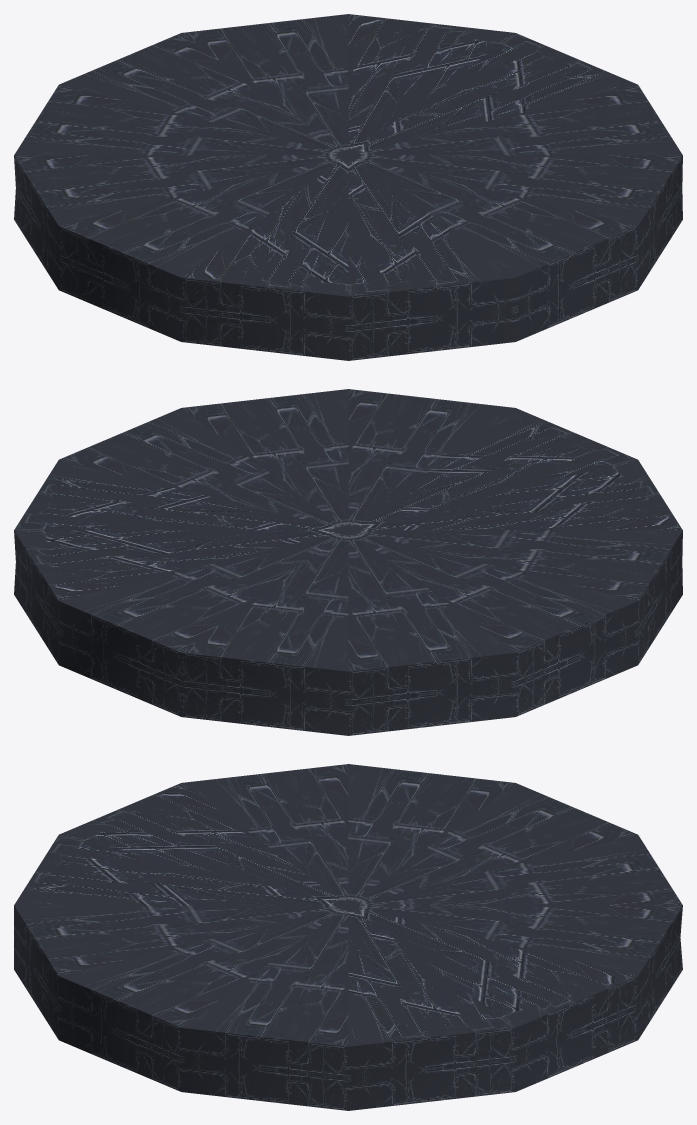
Rendered from pm-column-base.glb.
The picture shows the model from 3 angles, top to bottom: view 1: azimuth 30°, elevation 25°; view 2: azimuth 150°, elevation 25°; view 3: azimuth 270°, elevation 25°; orthographic projection.
Visible parts, largest first — view 1: ColumnBase; view 2: ColumnBase; view 3: ColumnBase.
Boxes of the visible parts, <box> form: ColumnBase: <box>14,14,682,360</box>; ColumnBase: <box>14,389,682,735</box>; ColumnBase: <box>14,764,682,1110</box>.
Bounding box in the file's own units: 1.95 × 0.2068 × 1.95.
1 material, 1 textured.
